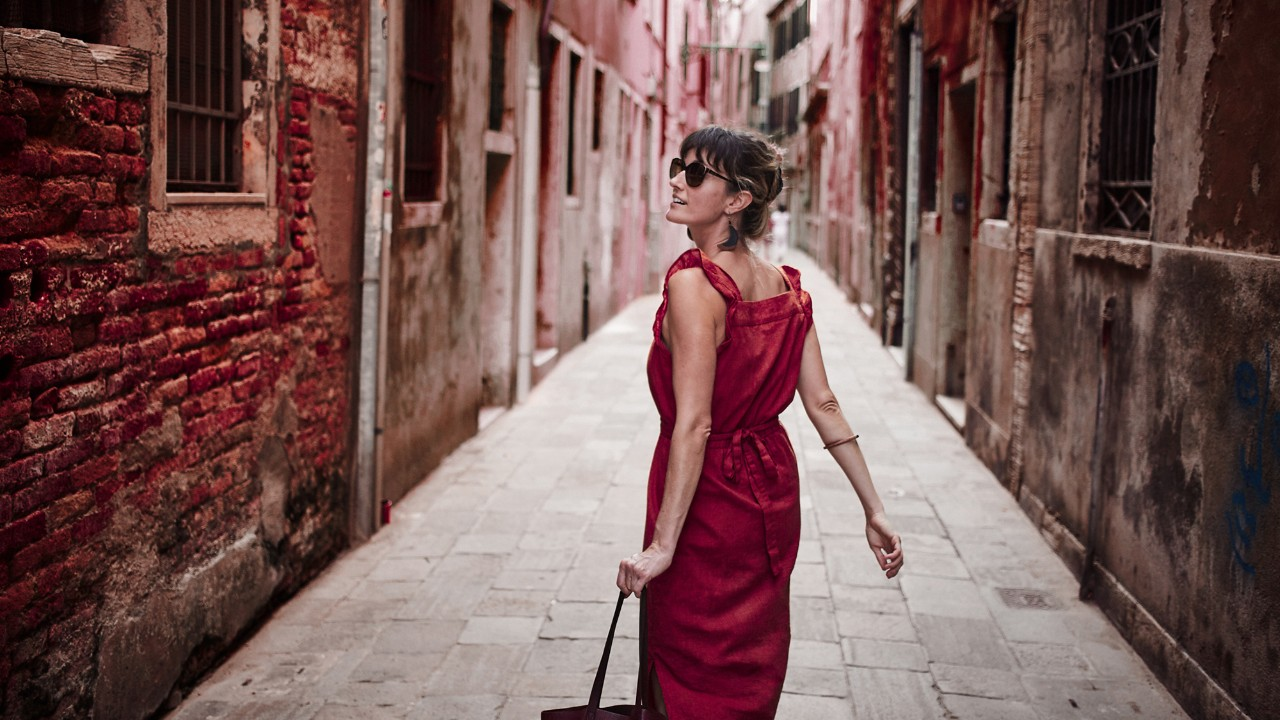person: (592, 121, 919, 720)
